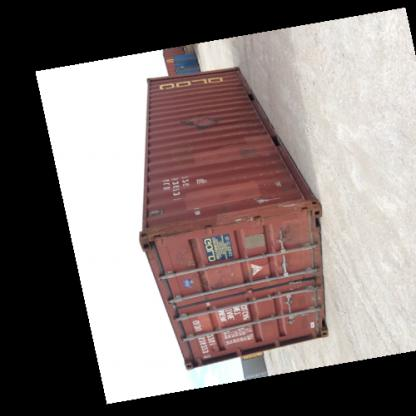Damage: (255, 175, 308, 211), (174, 106, 220, 133), (198, 260, 236, 288), (230, 136, 262, 164), (268, 219, 298, 243), (230, 80, 252, 106), (186, 200, 209, 218), (188, 171, 212, 184)
